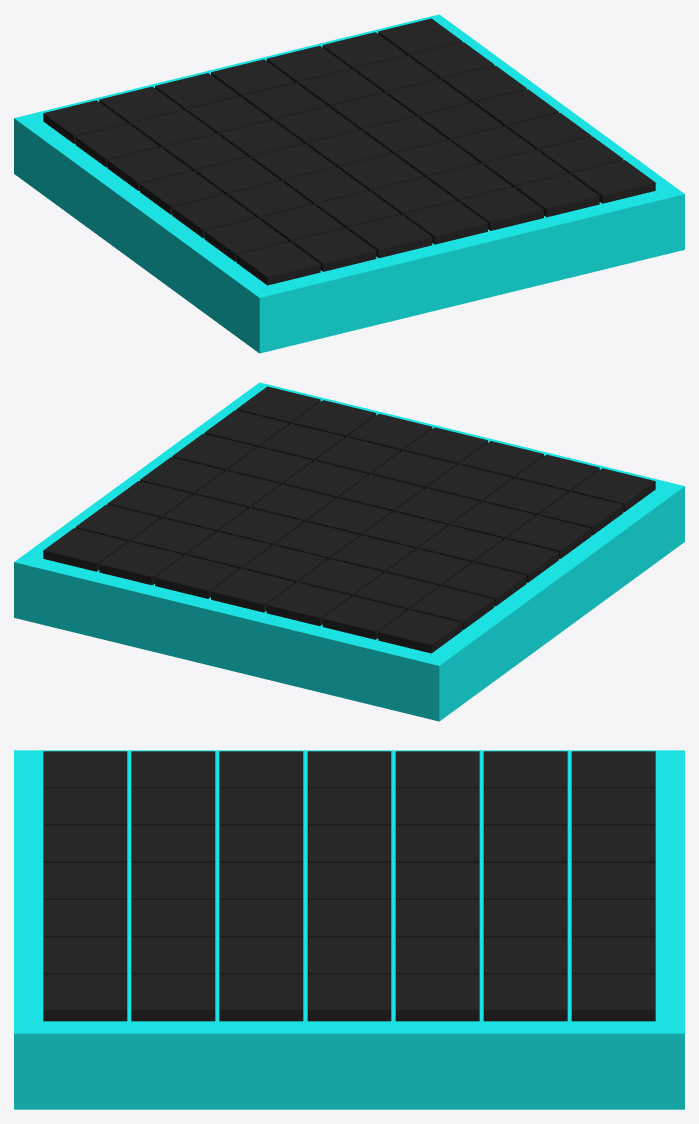
The model's file is wires_puzzle.fbx.
3 renders of one model, top to bottom at view 1: azimuth 30°, elevation 25°; view 2: azimuth 150°, elevation 25°; view 3: azimuth 270°, elevation 25°, orthographic. The views are drawn at different scales.
Parts seen in each view (by area): view 1: Cube.035, Cube; view 2: Cube.035, Cube; view 3: Cube.035, Cube.
Part boxes in pixels (x1,y1,x2,y2): Cube.035: (43,18,655,285); Cube: (14,14,684,353); Cube.035: (43,386,655,653); Cube: (14,382,684,721); Cube.035: (43,751,655,1021); Cube: (14,750,684,1109).
Size of the model in its own units: 1600 by 230 by 1600.
